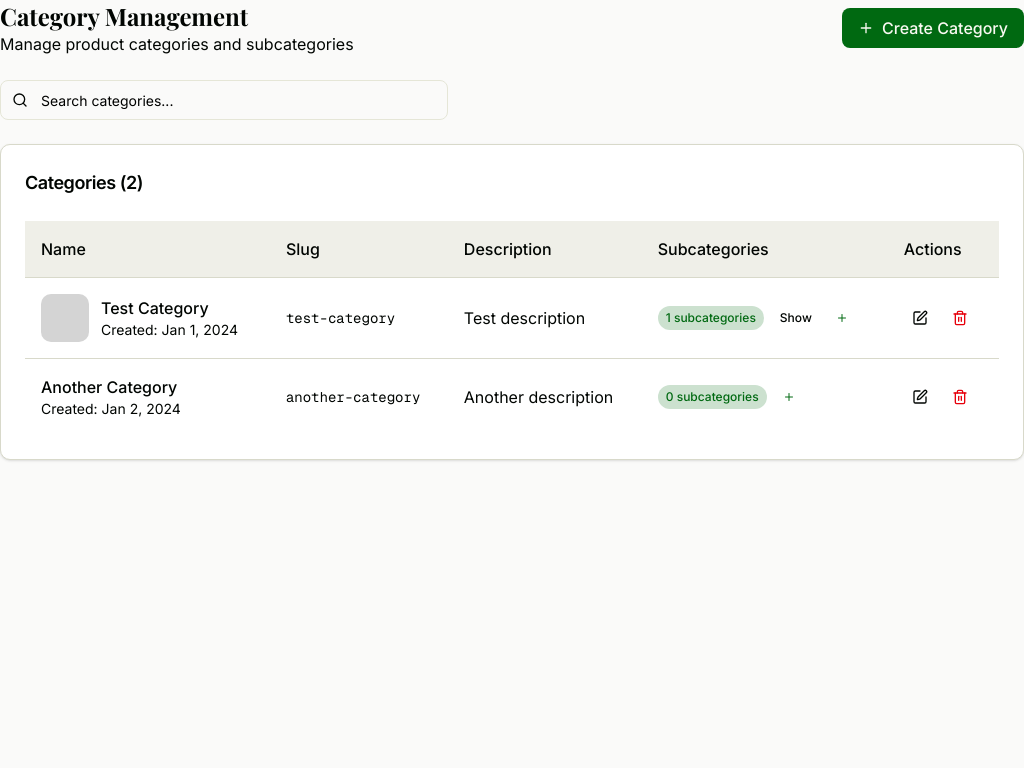
Test: CategoryManager › shows delete confirmation with product warning
Check: the text "Test Category" is shown, box [101, 298, 209, 318]
Note: Click delete button
Click the button titled "Delete category" in the row of "Test Category" at (960, 318), box [944, 302, 976, 334]
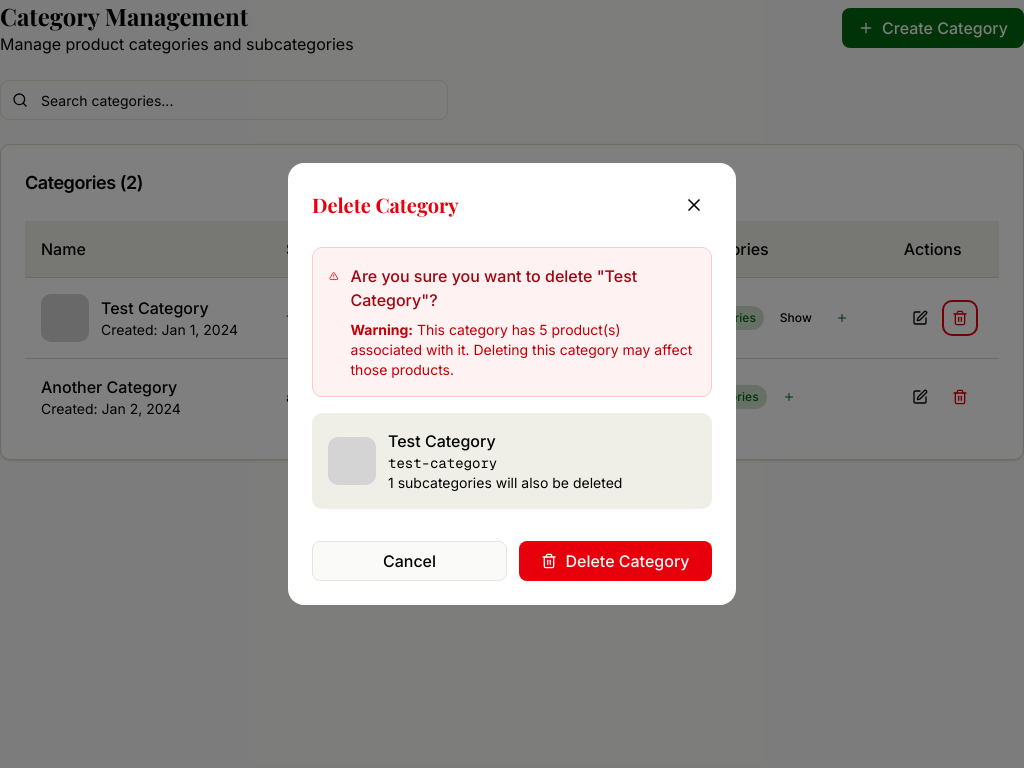
Check: the heading "Delete Category" is shown, box [312, 191, 459, 219]
Check: the text "This category has 5 product(s)" is shown, box [350, 320, 695, 380]
Check: the text "Deleting this category may affect those products" is shown, box [350, 321, 692, 378]
